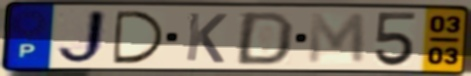5: (372, 10, 419, 68)
D: (231, 10, 298, 67), (111, 9, 169, 66)
J: (53, 8, 110, 67)
K: (183, 11, 230, 65)
M: (306, 11, 368, 66)
